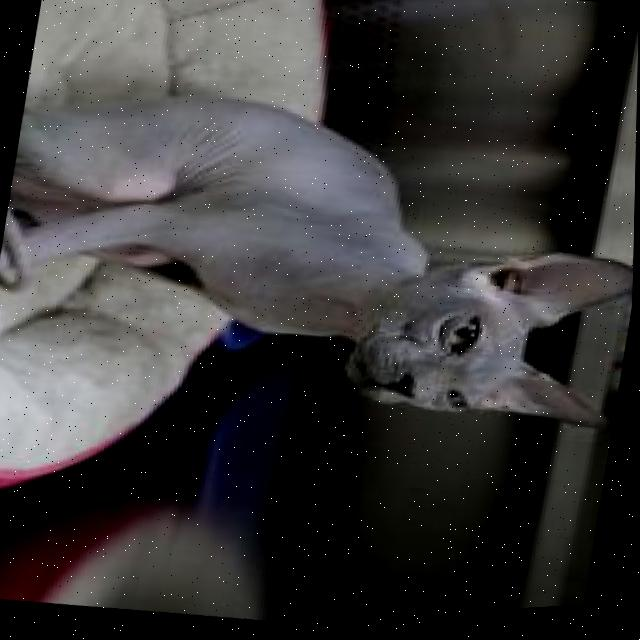Sphynx: (0, 48, 639, 465)
